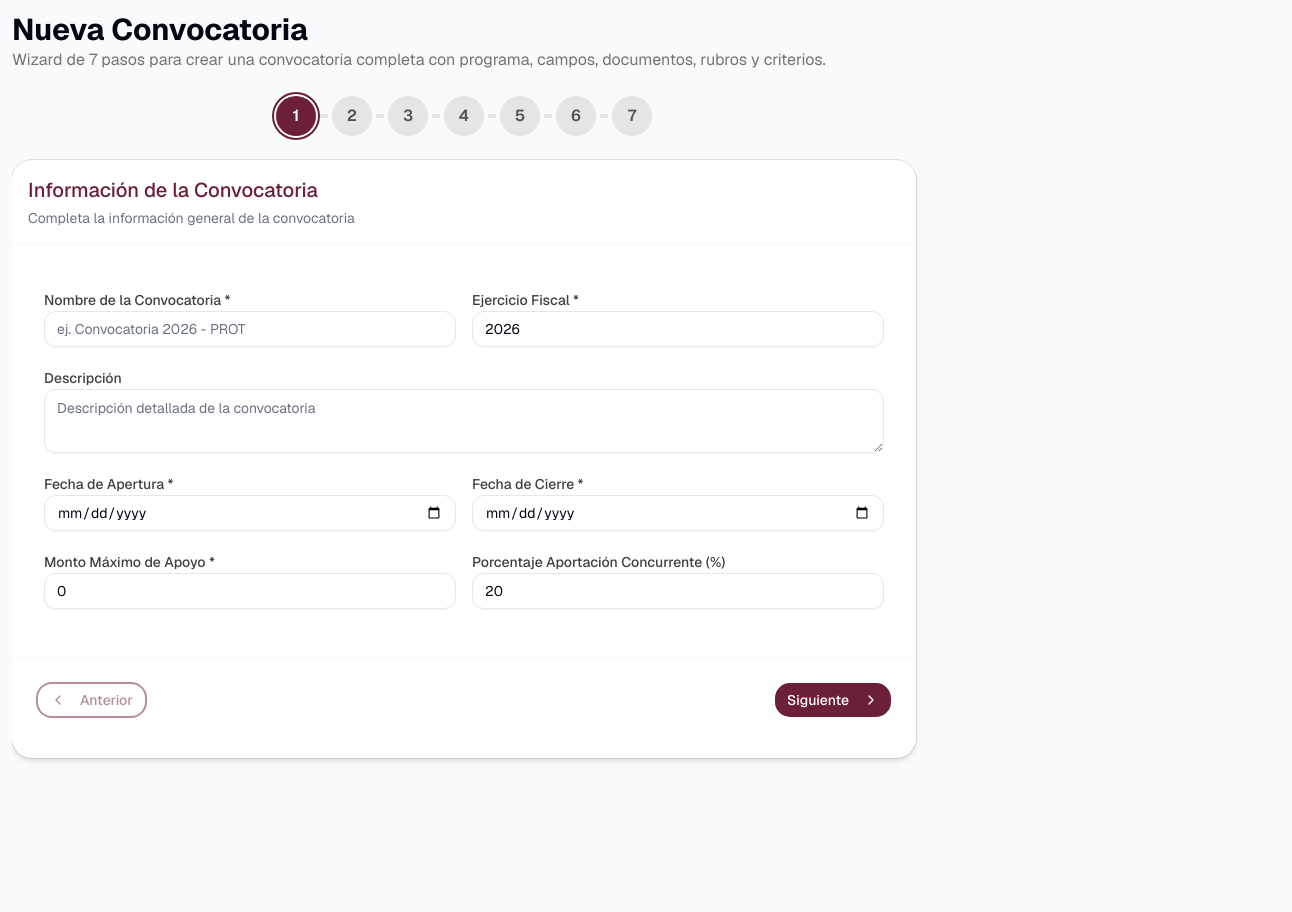
Test case: ConvocatoriasNuevaPage — Wizard 7 pasos › al hacer click en "Siguiente" con campos vacíos no avanza y muestra errores de validación
The image size is (1292, 912).
Click the button "Siguiente" at [833, 700], box [774,682,892,718]
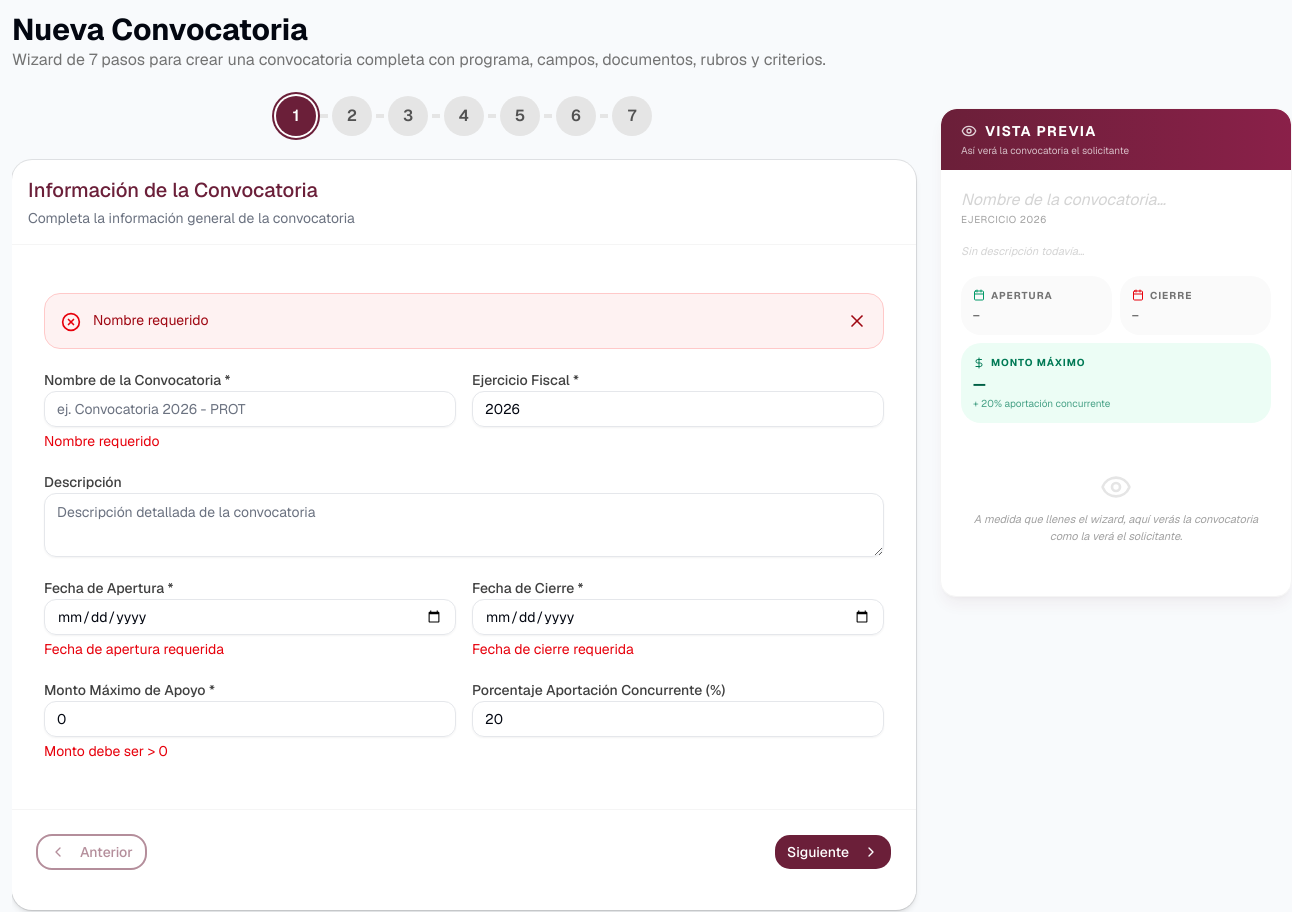
Check: the text "Información de la Convocatoria" is shown, box [28,177,318,203]
Check: the 1st text "Nombre requerido" is shown, box [93,311,208,329]
